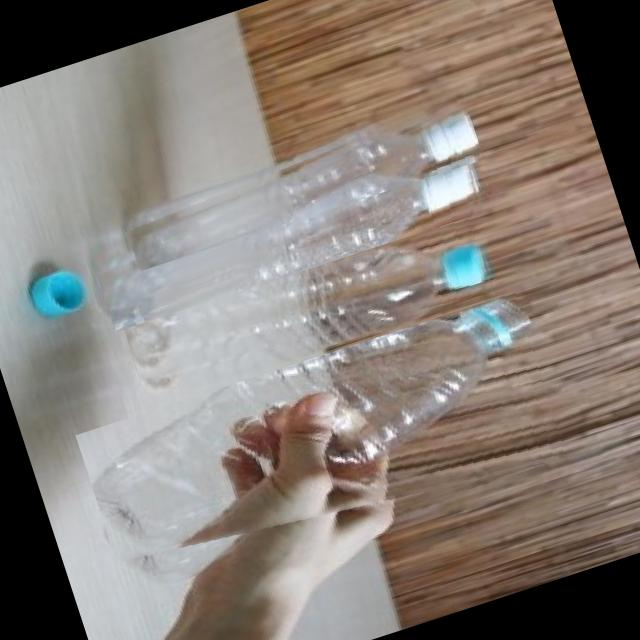plastic bottle: (75, 291, 574, 602), (90, 135, 488, 332), (123, 215, 499, 404), (116, 98, 484, 272)
